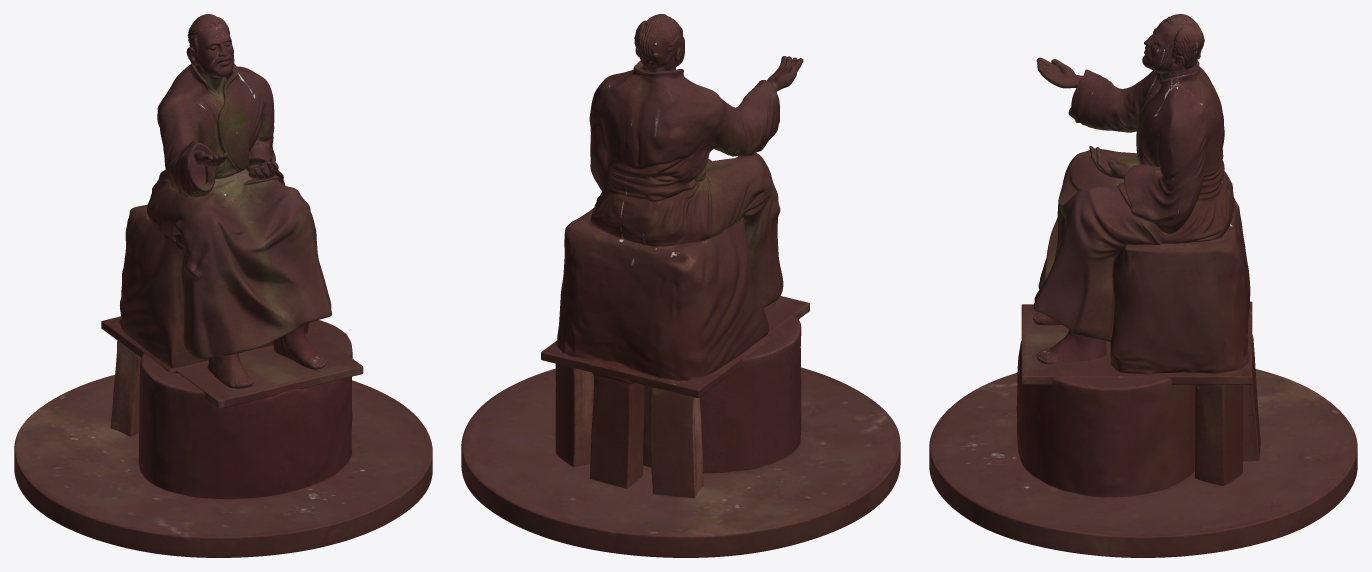
The model's file is San Juan del Castillo.glb.
The picture shows the model from 3 angles, left to right: view 1: azimuth 30°, elevation 25°; view 2: azimuth 150°, elevation 25°; view 3: azimuth 270°, elevation 25°; orthographic projection. The views are drawn at different scales.
Bounding box in the file's own units: 1.64 × 1.9 × 1.63.
1 material, 1 textured.
